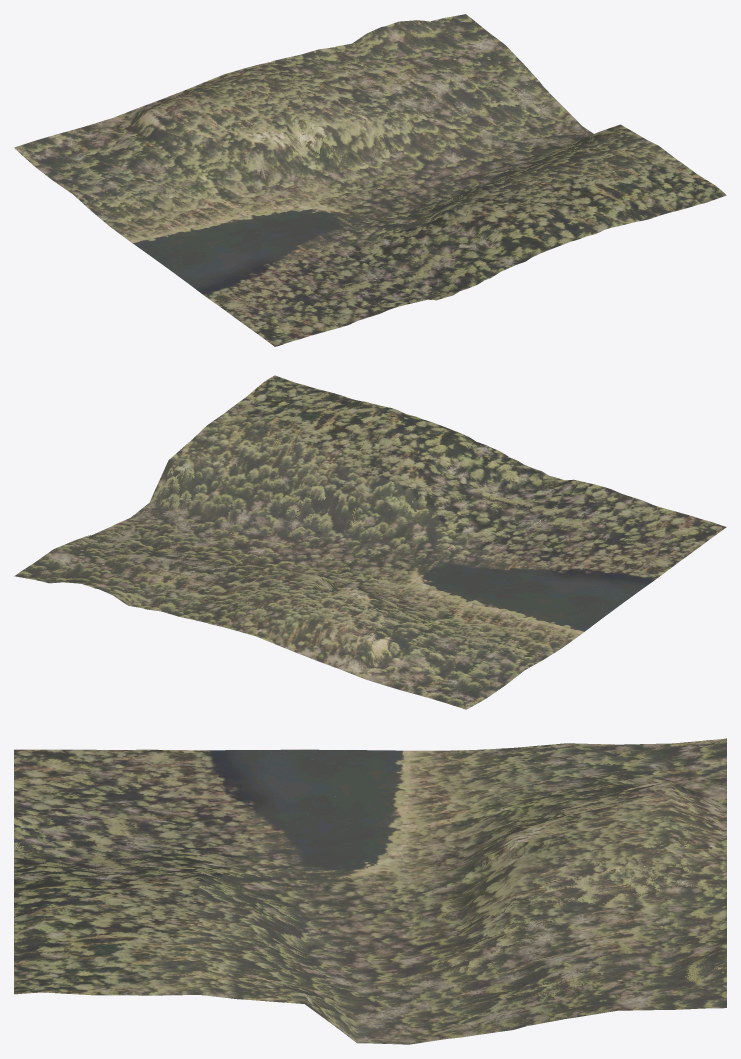
File: CM_Terrain_24493735_6814060.fbx
3 views of the same model, one above another, from view 1: azimuth 30°, elevation 25°; view 2: azimuth 150°, elevation 25°; view 3: azimuth 270°, elevation 25° (orthographic). The views are drawn at different scales.
Parts seen in each view (by area): view 1: CM_Terrain_24493735_6814060_LOD0; view 2: CM_Terrain_24493735_6814060_LOD0; view 3: CM_Terrain_24493735_6814060_LOD0.
Part boxes in pixels (x1,y1,x2,y2): CM_Terrain_24493735_6814060_LOD0: (14,14,726,346); CM_Terrain_24493735_6814060_LOD0: (14,375,726,709); CM_Terrain_24493735_6814060_LOD0: (14,738,726,1044).
Size of what is drawn, in the model's own units: 205 by 18.95 by 205.
